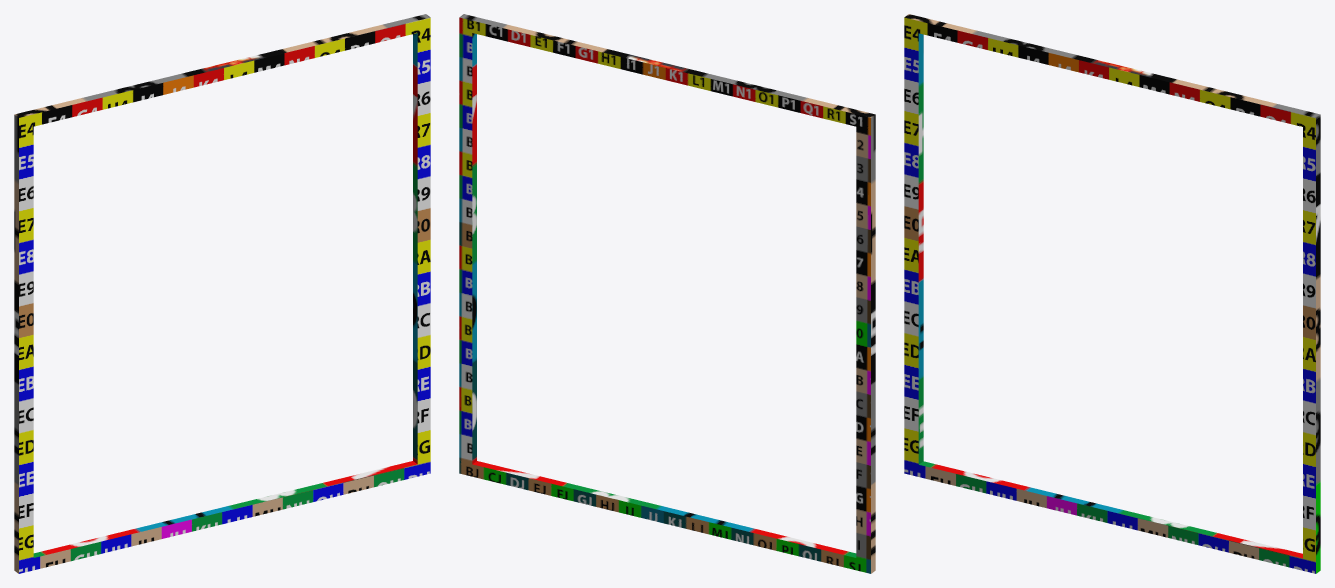
File: glassslider1.FBX
3 views of the same model, side by side, from view 1: azimuth 30°, elevation 25°; view 2: azimuth 150°, elevation 25°; view 3: azimuth 330°, elevation 25° (orthographic).
Visible parts, largest first — view 1: Glass_Slider_1; view 2: Glass_Slider_1; view 3: Glass_Slider_1.
Part boxes in pixels (<box>): Glass_Slider_1: <box>14,14,430,573</box>; Glass_Slider_1: <box>459,14,875,573</box>; Glass_Slider_1: <box>904,14,1320,573</box>.
Size of the model in its own units: 1.75 by 1.85 by 0.035.
Materials: 1 (1 with a texture image).
